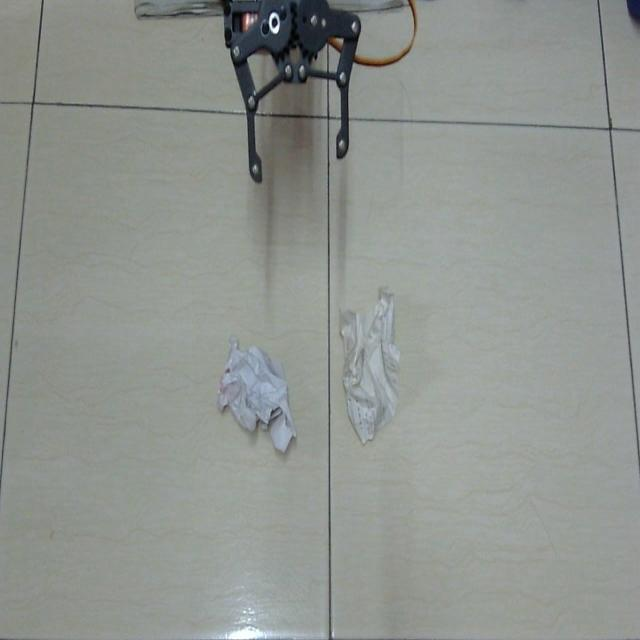paperrotation: (215, 324, 298, 464), (334, 284, 408, 440)
